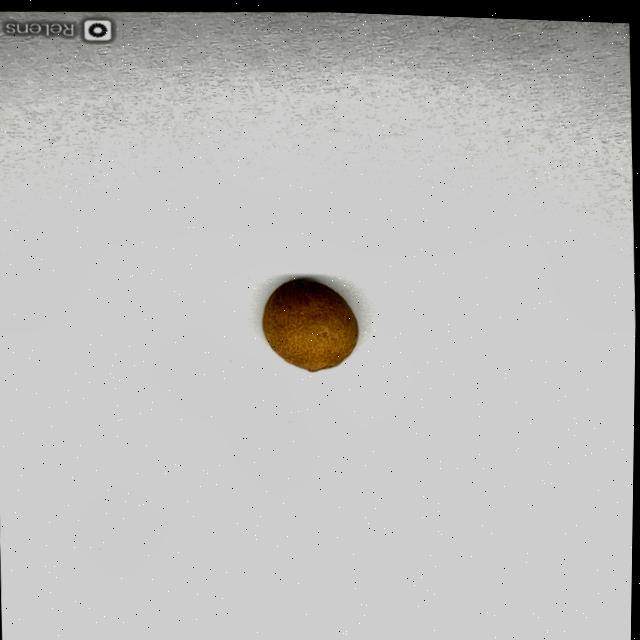Quaker: (261, 276, 361, 371)
